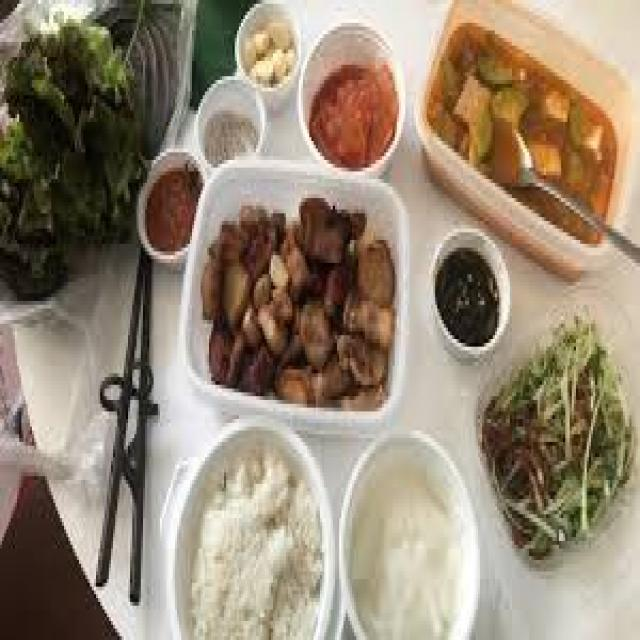plastic-bowl: (158, 140, 414, 436), (293, 0, 413, 186), (132, 143, 215, 267), (191, 62, 271, 175), (229, 0, 304, 112)
